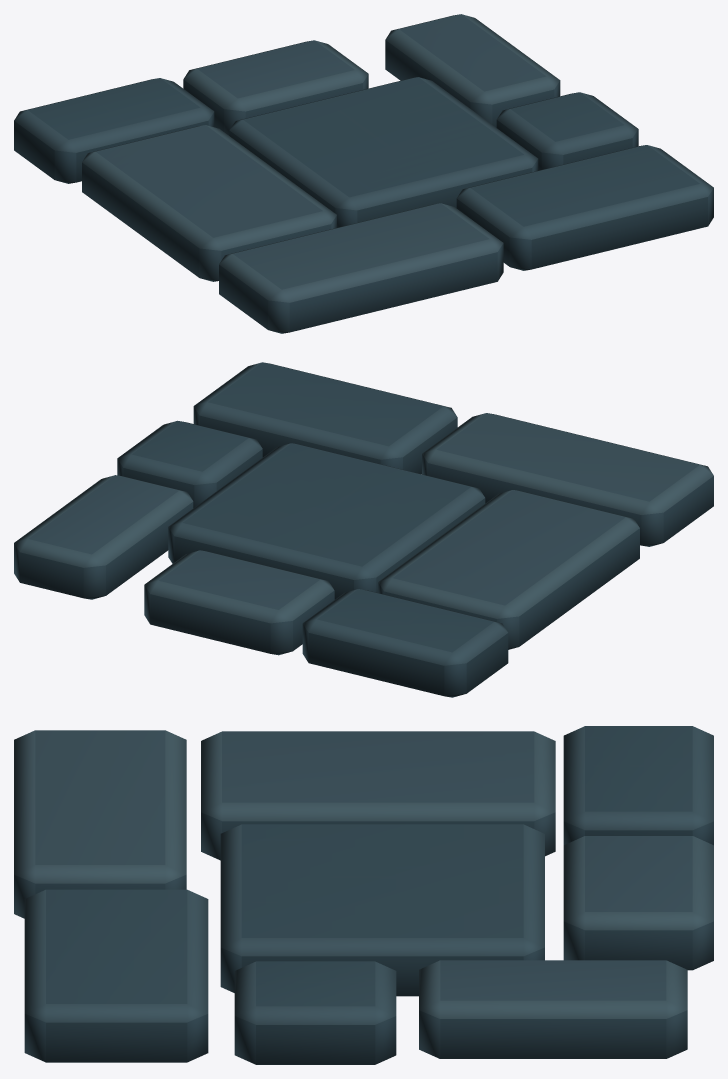
Rendered from stone_path_4.fbx.
3 renders of one model, top to bottom at view 1: azimuth 30°, elevation 25°; view 2: azimuth 150°, elevation 25°; view 3: azimuth 270°, elevation 25°, orthographic. The views are drawn at different scales.
Visible parts, largest first — view 1: stone_path_4; view 2: stone_path_4; view 3: stone_path_4.
Boxes of the visible parts, x1=… form: stone_path_4: x1=14, y1=14, x2=713, y2=333; stone_path_4: x1=14, y1=362, x2=713, y2=697; stone_path_4: x1=14, y1=726, x2=713, y2=1064.
Size of the model in its own units: 200 by 18.28 by 198.
